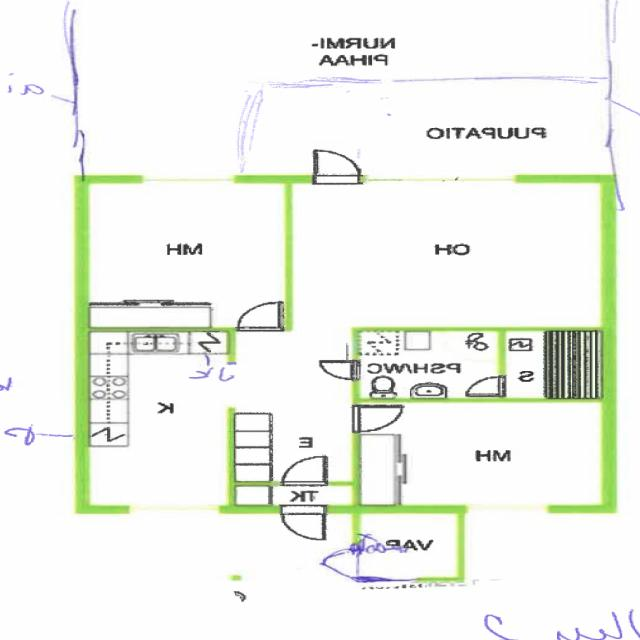door: (312, 147, 359, 184), (280, 505, 326, 539), (281, 454, 328, 486), (308, 550, 361, 576), (352, 406, 404, 430), (237, 303, 279, 332), (464, 376, 506, 397), (317, 360, 360, 380)
